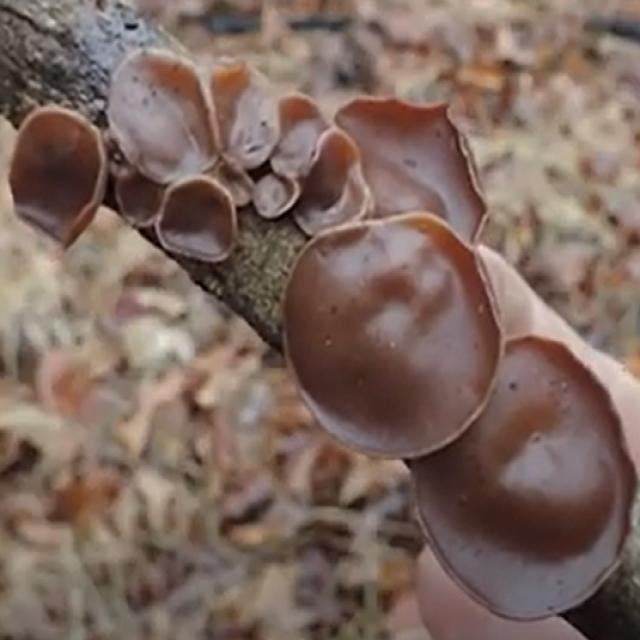Fase Muda: (268, 212, 621, 590), (102, 46, 364, 266), (333, 96, 491, 246), (10, 93, 109, 252)
